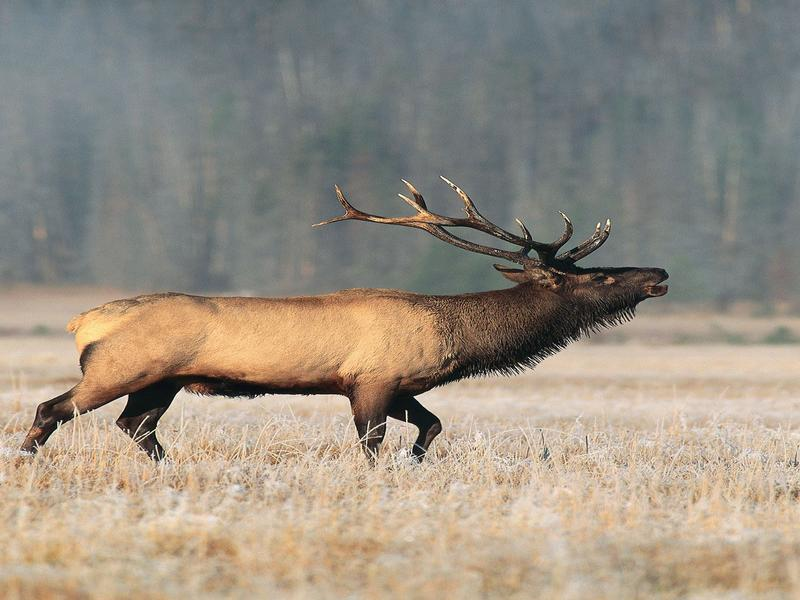elk: (9, 175, 670, 471)
